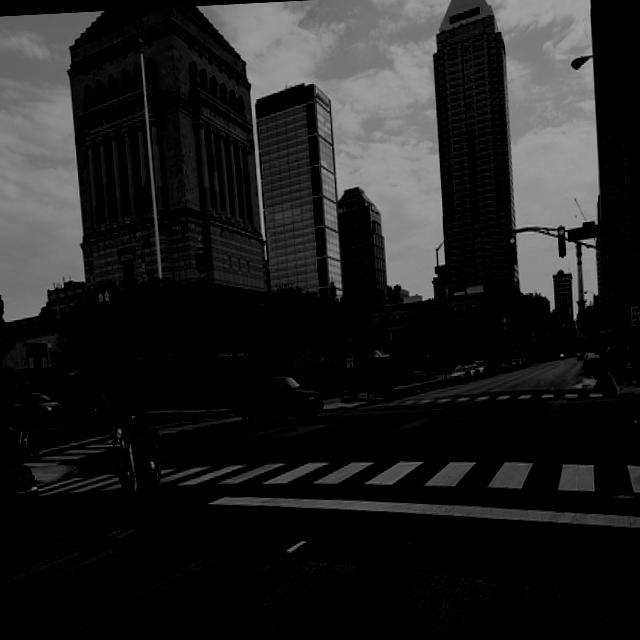Vehicle: (111, 396, 167, 494), (230, 374, 326, 426), (5, 426, 39, 526), (9, 391, 66, 426), (84, 394, 111, 423), (582, 353, 603, 374), (451, 366, 472, 386), (473, 360, 488, 376), (498, 361, 512, 372), (515, 358, 525, 368), (511, 361, 520, 368), (558, 352, 565, 359)
